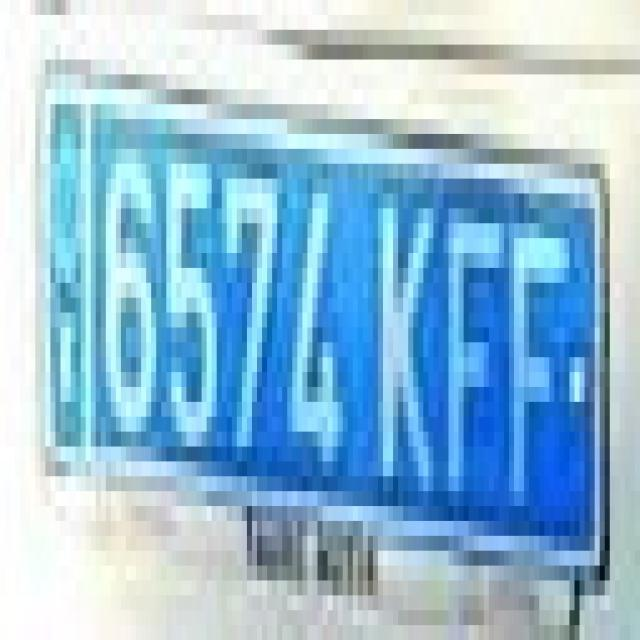licenseplate: (36, 59, 606, 582)
